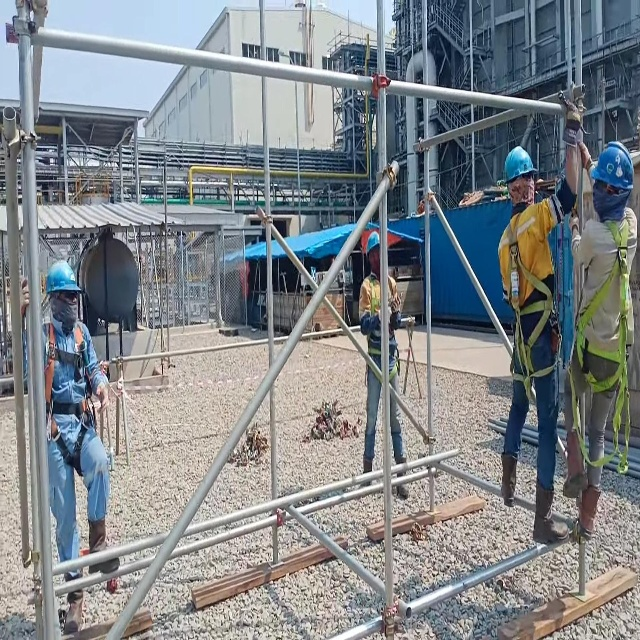Arnes_seguridad: (568, 211, 635, 473), (501, 205, 562, 402), (42, 318, 99, 485), (365, 268, 401, 384)
